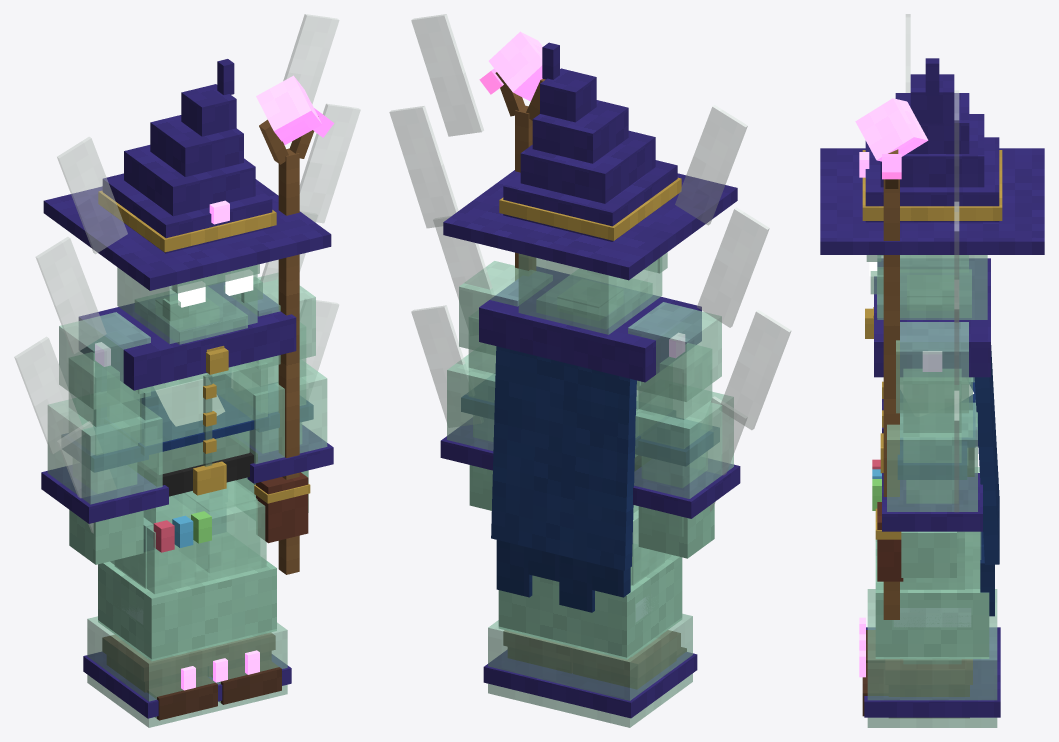
Rendered from spirit_mage_v2.glb.
3 views of the same model, side by side, from view 1: azimuth 30°, elevation 25°; view 2: azimuth 150°, elevation 25°; view 3: azimuth 270°, elevation 25° (orthographic). The views are drawn at different scales.
Parts seen in each view (by area): view 1: Torso, Head, Root, ArmR, ArmL, HandL, LegR, LegL; view 2: Torso, Head, Root, ArmR, ArmL, LegR, HandL, LegL; view 3: Head, Root, ArmL, Torso, HandL, LegL, ArmR.
Part boxes in pixels (left/top/right/bottom): Torso: left=14, top=14, right=360, bottom=552; Head: left=43, top=59, right=331, bottom=344; Root: left=83, top=493, right=291, bottom=727; ArmR: left=41, top=312, right=168, bottom=564; ArmL: left=213, top=273, right=333, bottom=512; HandL: left=256, top=75, right=334, bottom=574; LegR: left=102, top=496, right=217, bottom=720; LegL: left=184, top=481, right=281, bottom=704; Torso: left=389, top=14, right=791, bottom=612; Head: left=443, top=42, right=737, bottom=334; Root: left=483, top=511, right=697, bottom=727; ArmR: left=628, top=302, right=740, bottom=558; ArmL: left=440, top=261, right=552, bottom=510; LegR: left=573, top=505, right=686, bottom=689; HandL: left=479, top=31, right=545, bottom=280; LegL: left=503, top=630, right=573, bottom=673; Head: left=820, top=58, right=1044, bottom=319; Root: left=859, top=467, right=1000, bottom=727; ArmL: left=882, top=322, right=982, bottom=577; Torso: left=865, top=14, right=999, bottom=616; HandL: left=855, top=98, right=928, bottom=619; LegL: left=862, top=531, right=972, bottom=716; ArmR: left=882, top=255, right=978, bottom=446.
Size of the model in its own units: 1.38 by 2.27 by 0.69.
Materials: 29 (29 with a texture image).
